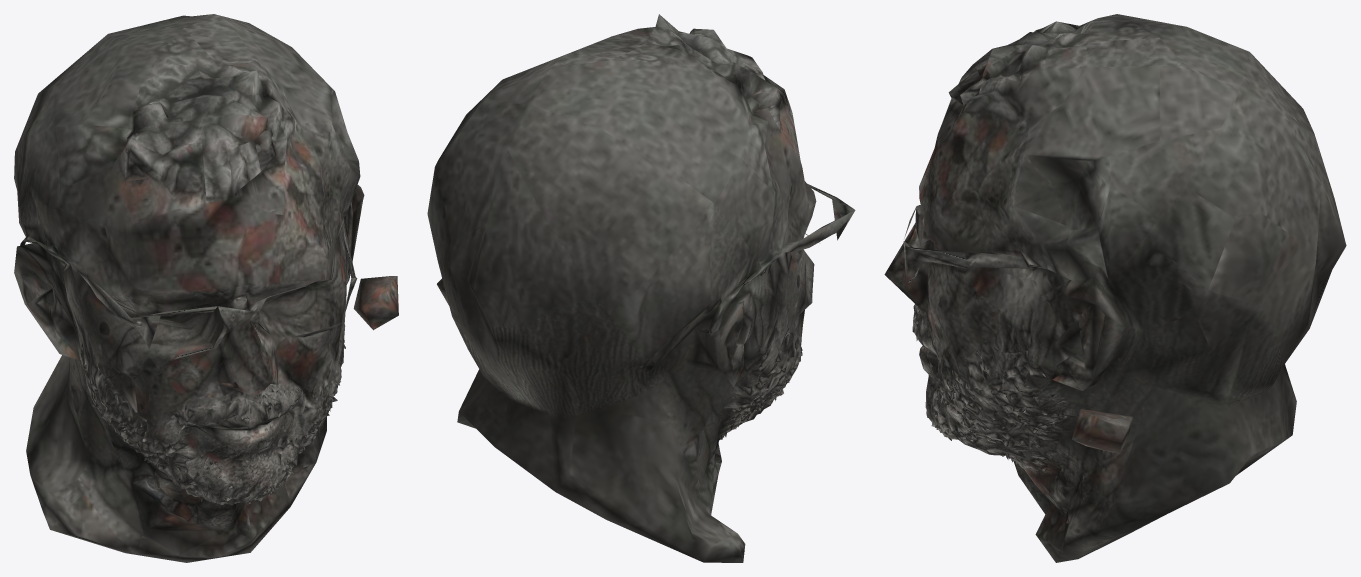
Rendered from Franchi-low.glb.
3 renders of one model, left to right at view 1: azimuth 30°, elevation 25°; view 2: azimuth 150°, elevation 25°; view 3: azimuth 270°, elevation 25°, orthographic. The views are drawn at different scales.
Size of the model in its own units: 1.35 by 1.88 by 1.52.
Materials: 1 (1 with a texture image).
